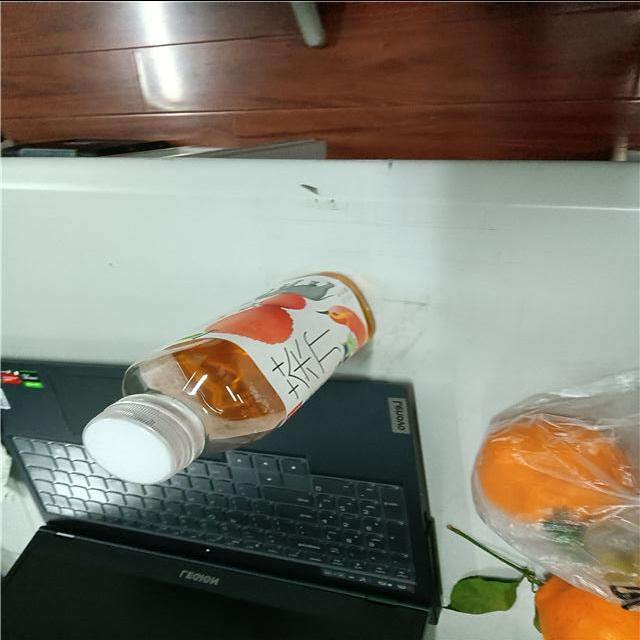orange peel: (533, 571, 639, 639)
